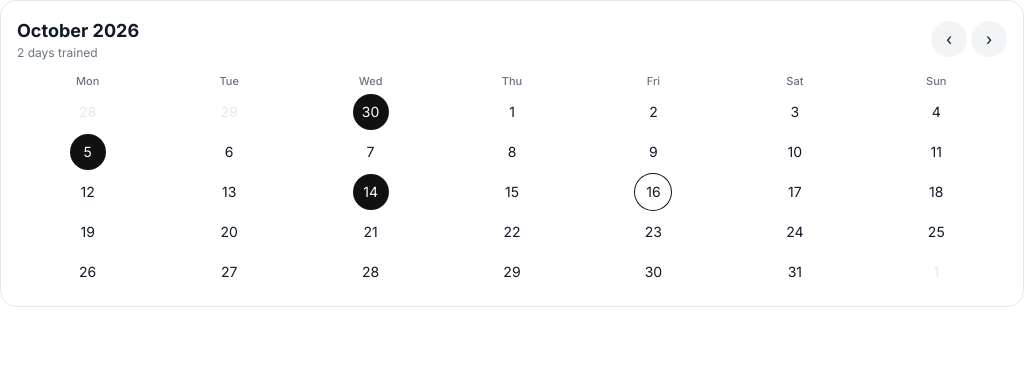
Test case: MonthCalendar › tapping a trained day shows its name, duration, volume and sets, linking to the workout
Click the button "5" at {"x": 88, "y": 152}, box [70, 134, 106, 170]
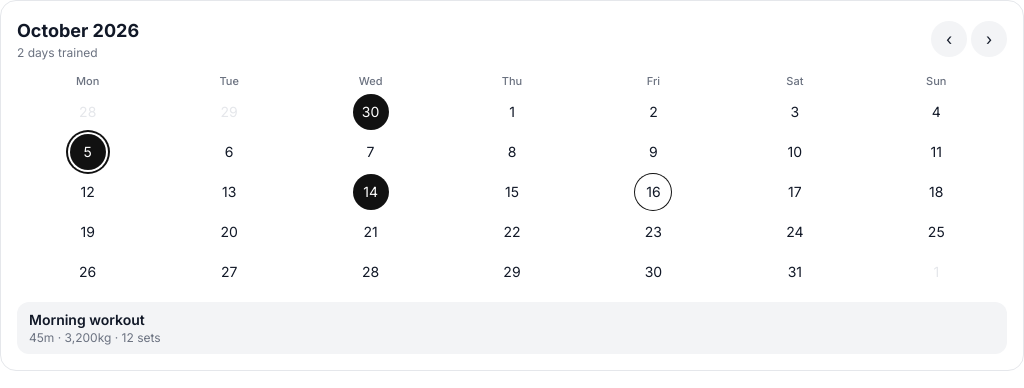
expect the text "Morning workout" is shown: met, box [29, 310, 145, 328]
